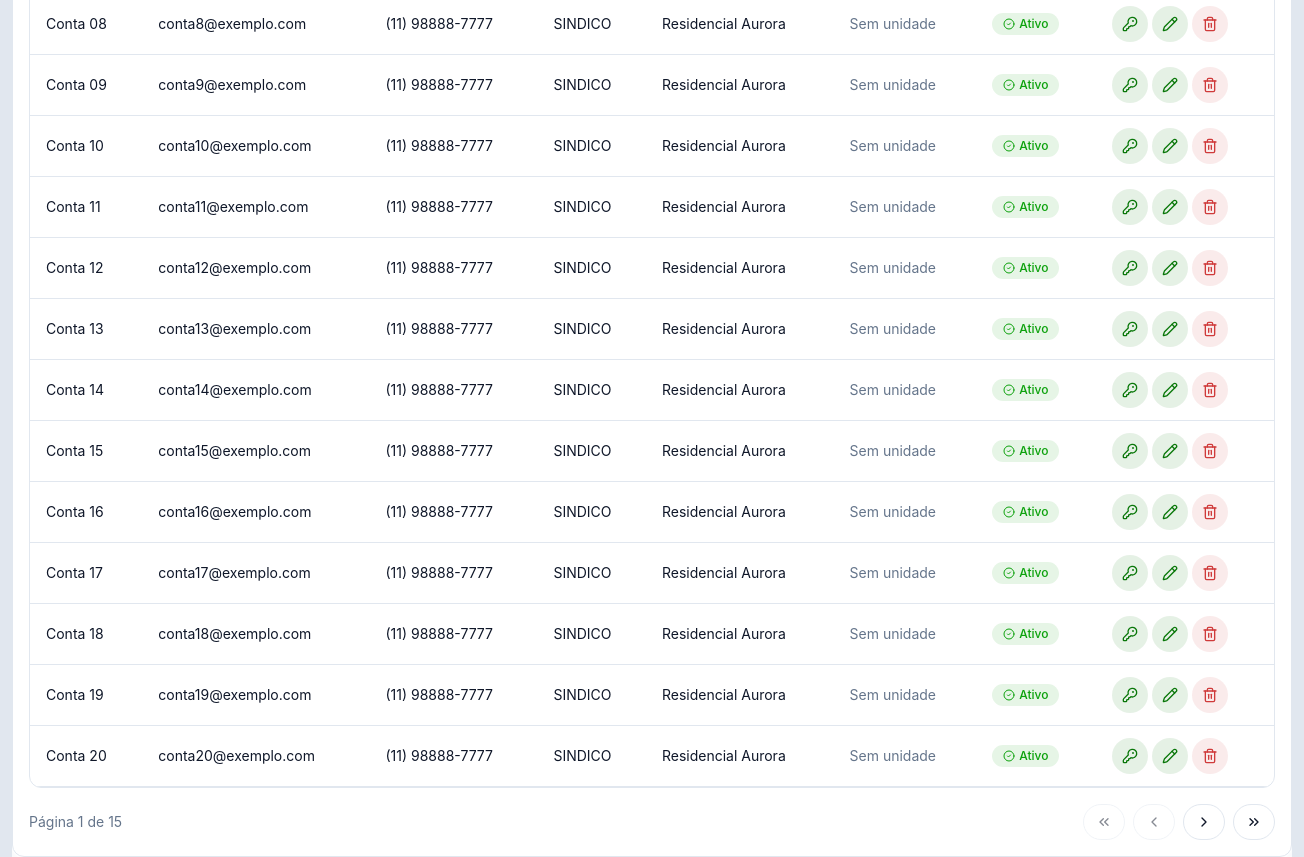
Scenario: Listagem de usuários › trezentas contas paginam no tamanho pedido
(page scrolled)
What coordinates should you click on to do the following:
click the button named "Próxima página"
I would click on:
 (1204, 822)
Its box is x1=1183 y1=804 x2=1225 y2=840.
(page scrolled)
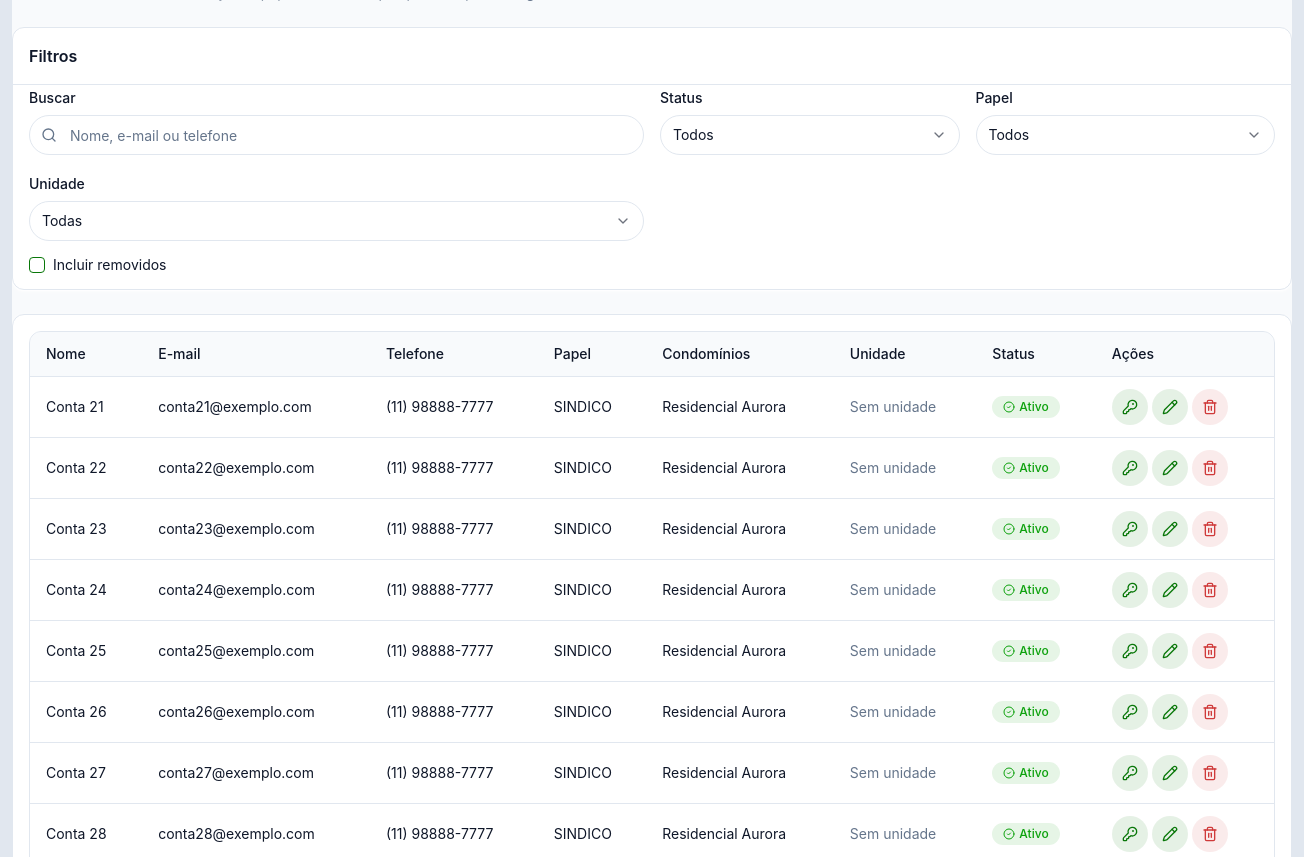
Now the text "Conta 21" is shown, box x1=46 y1=397 x2=104 y2=417
